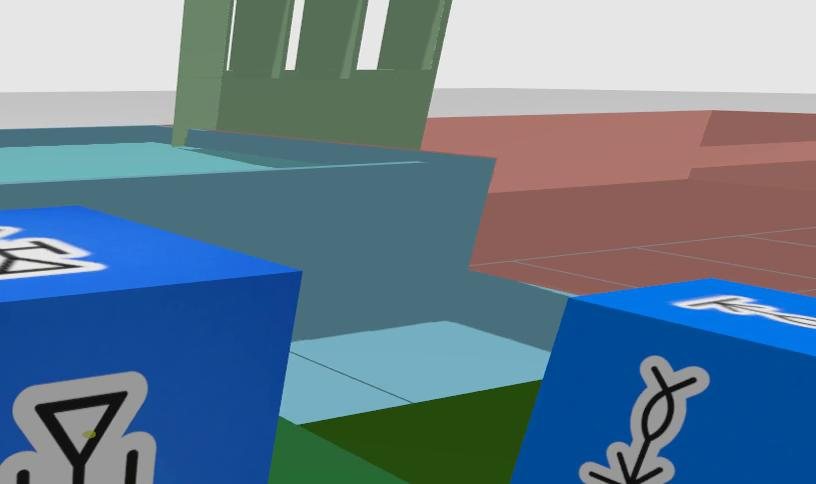KFS_REAL: (0, 206, 301, 483), (509, 278, 815, 483), (0, 372, 155, 483), (579, 356, 709, 483), (0, 226, 106, 279), (673, 294, 815, 328)
